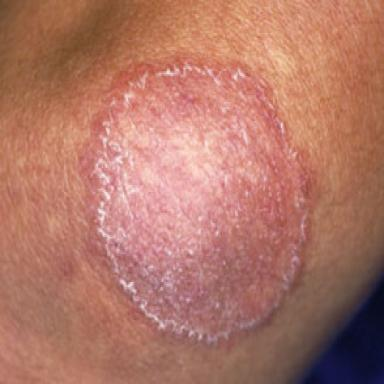Tinea-Corporis: (80, 60, 308, 347)
